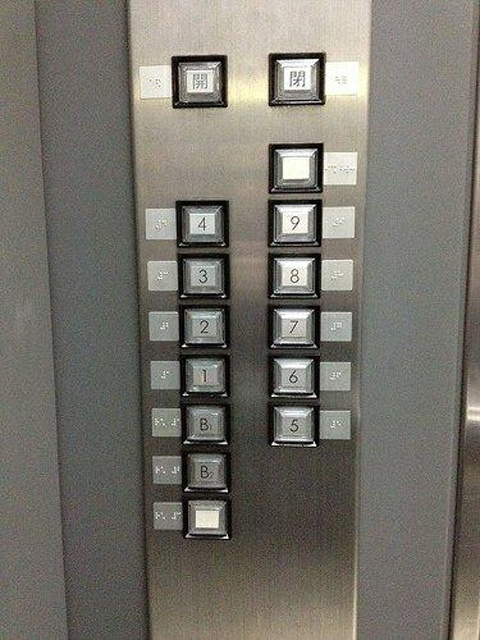1: (180, 353, 229, 397)
2: (178, 302, 230, 349)
3: (178, 252, 230, 300)
4: (175, 197, 230, 247)
5: (267, 400, 321, 448)
6: (267, 355, 321, 399)
7: (267, 302, 321, 351)
8: (267, 252, 321, 299)
9: (267, 197, 322, 247)
B1: (181, 403, 230, 445)
B2: (181, 450, 230, 492)
empty: (267, 140, 325, 194), (184, 497, 231, 540)
text: (267, 50, 327, 106), (170, 53, 229, 108)
